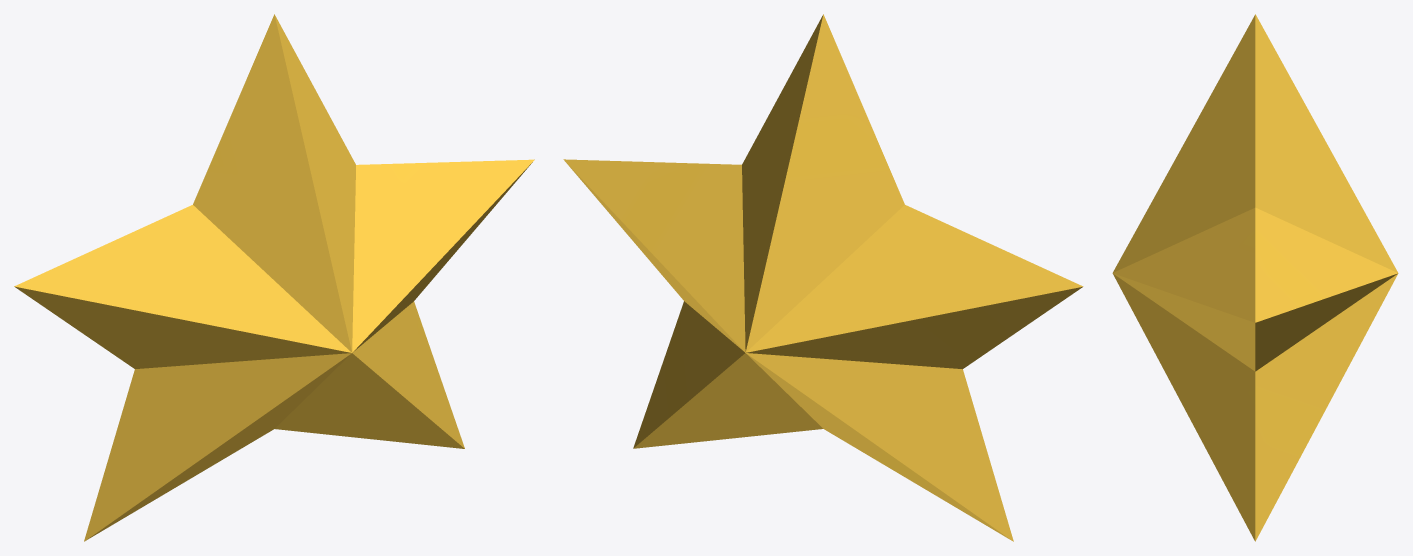
Rendered from star.glb.
3 renders of one model, left to right at view 1: azimuth 30°, elevation 25°; view 2: azimuth 150°, elevation 25°; view 3: azimuth 270°, elevation 25°, orthographic. The views are drawn at different scales.
Visible parts, largest first — view 1: Star; view 2: Star; view 3: Star.
Boxes of the visible parts, x1,y1,x2,y2 form: Star: [14, 14, 534, 541]; Star: [563, 14, 1083, 541]; Star: [1112, 14, 1398, 541].
Bounding box in the file's own units: 0.7676 × 0.6783 × 0.3974.
1 material, 1 textured.
